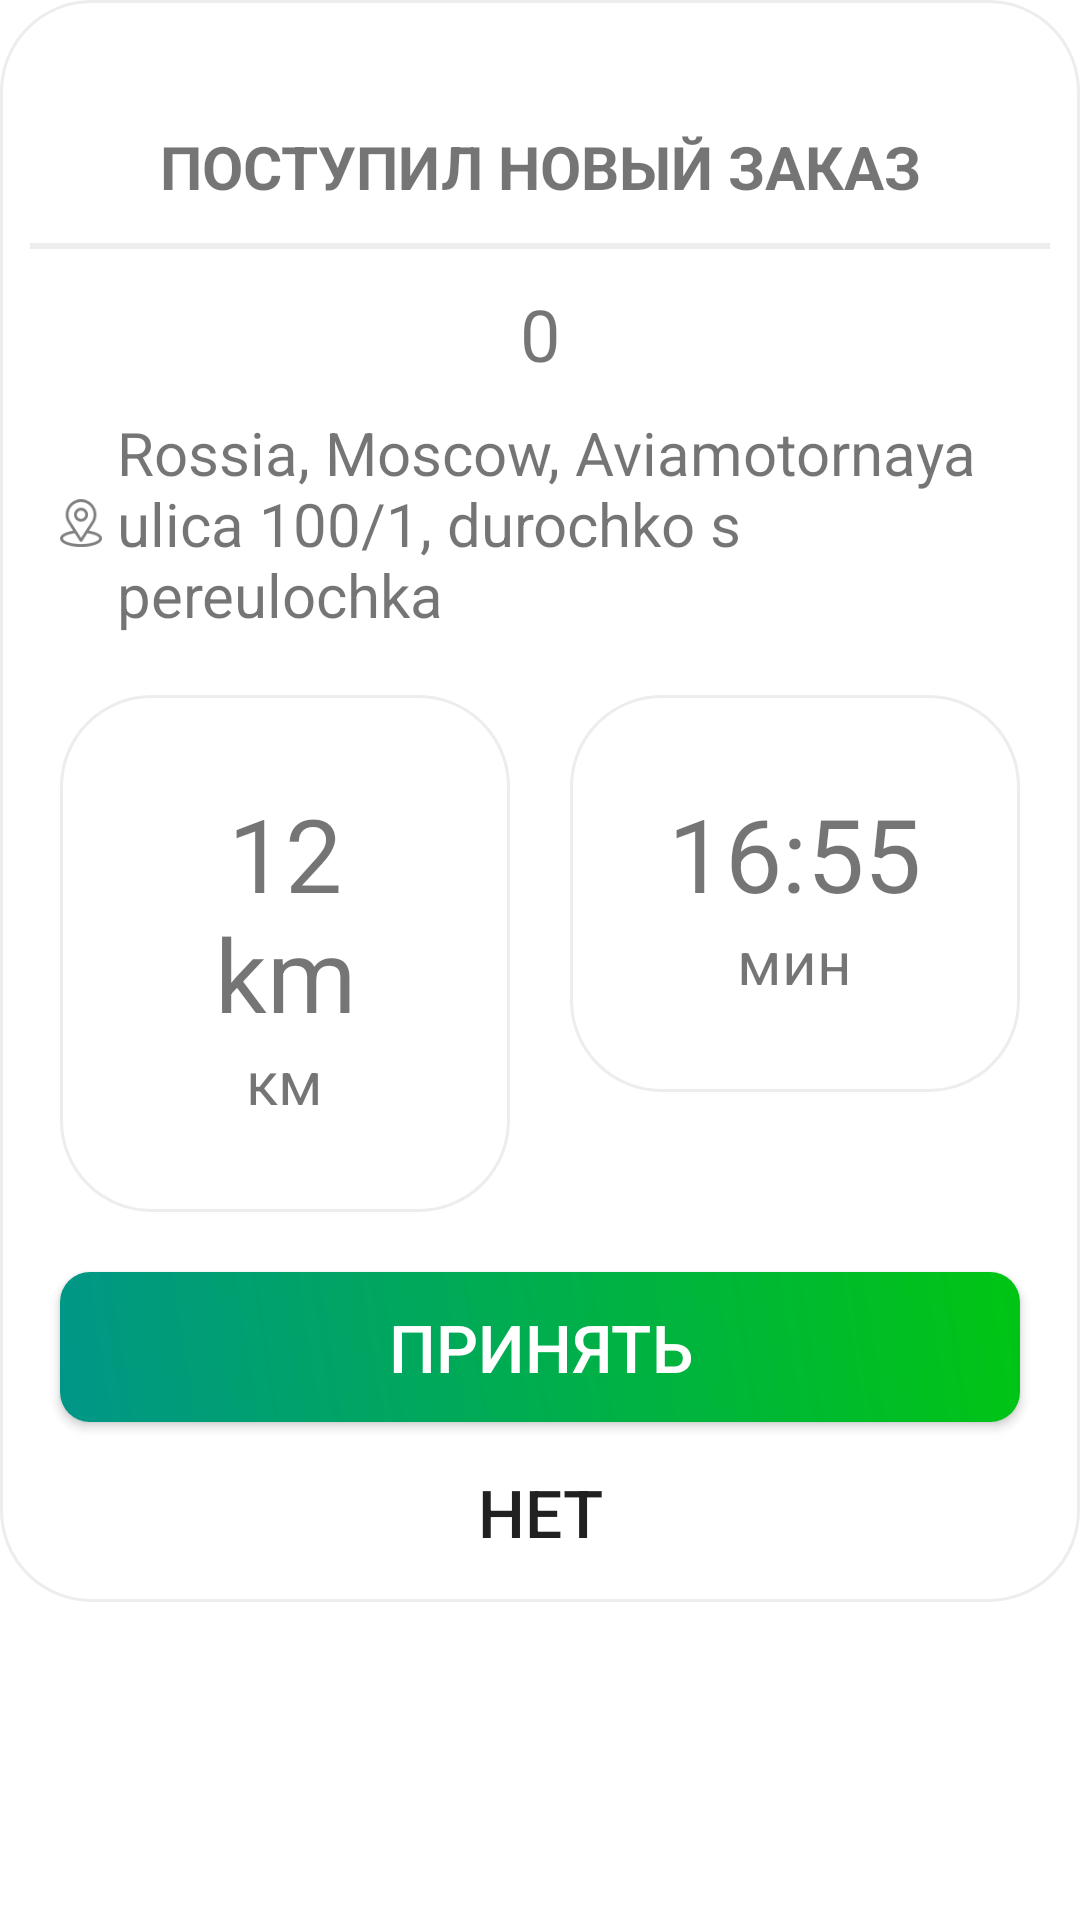

Screen size 1080w x 1920h. Icon name, then its box in pixels as (x1, y1, x2, y2):
location: (60, 499, 102, 547)
